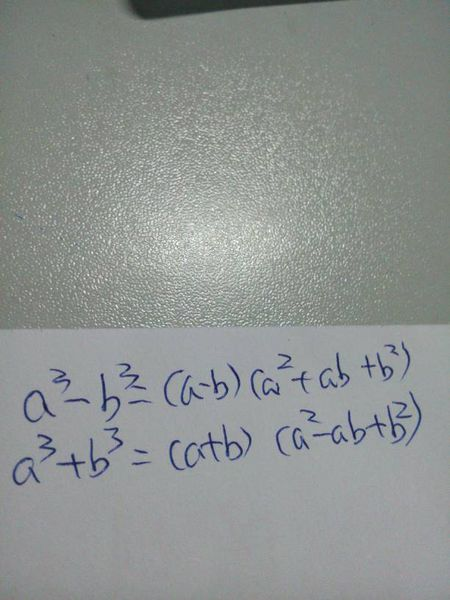cube: (114, 360, 141, 390), (48, 361, 71, 392), (36, 429, 54, 461), (103, 425, 120, 455)
